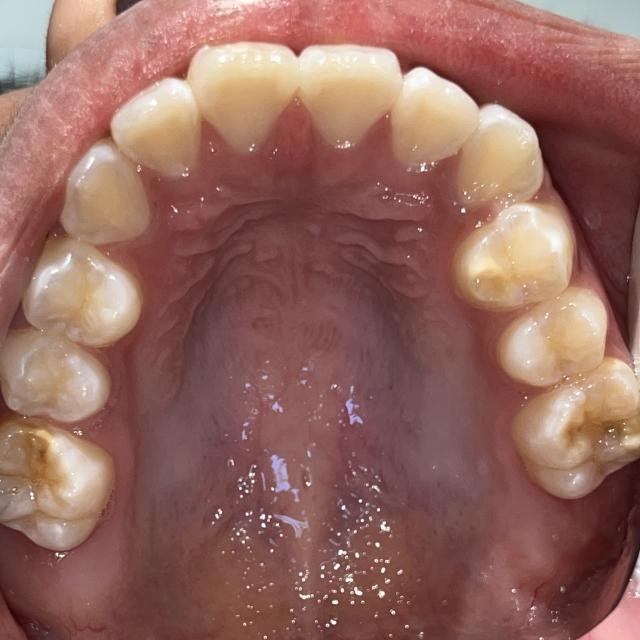tooth: (503, 355, 640, 506), (437, 187, 586, 324), (4, 408, 120, 566), (22, 230, 150, 372), (442, 83, 558, 227), (288, 34, 411, 157), (186, 39, 305, 166), (49, 131, 170, 253), (477, 287, 618, 391), (94, 60, 213, 180), (2, 317, 121, 434), (380, 42, 475, 180)
